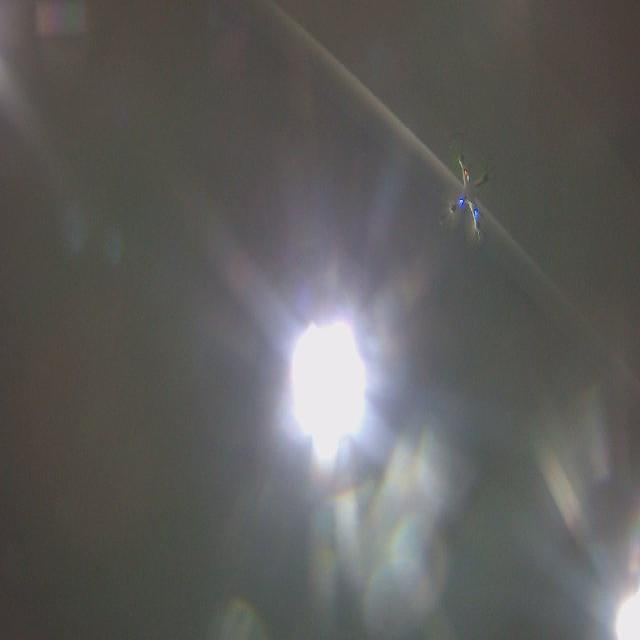drone: (435, 129, 499, 251)
